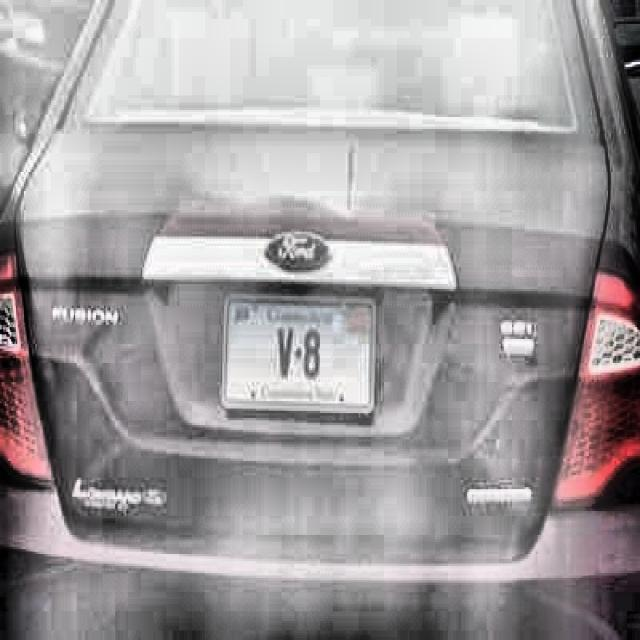license_plate: (226, 295, 371, 412)
